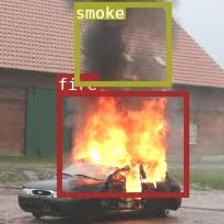fire: (57, 91, 188, 196)
smoke: (74, 1, 170, 86)
